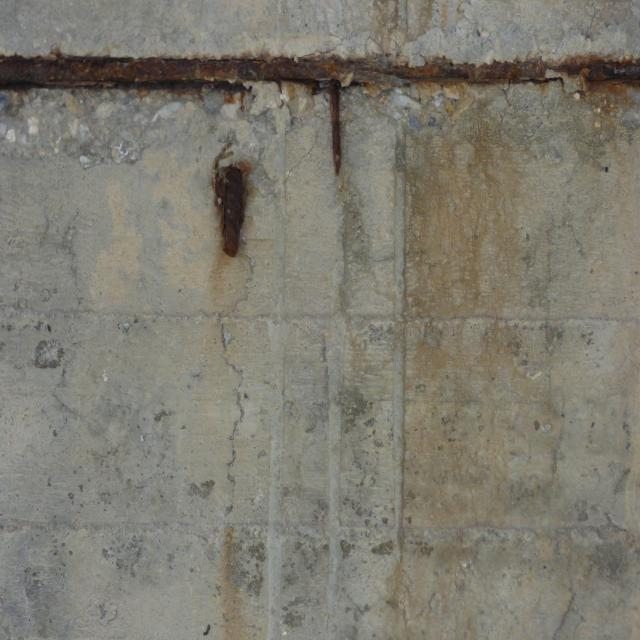corrosion: (375, 131, 576, 640), (200, 154, 298, 640)
